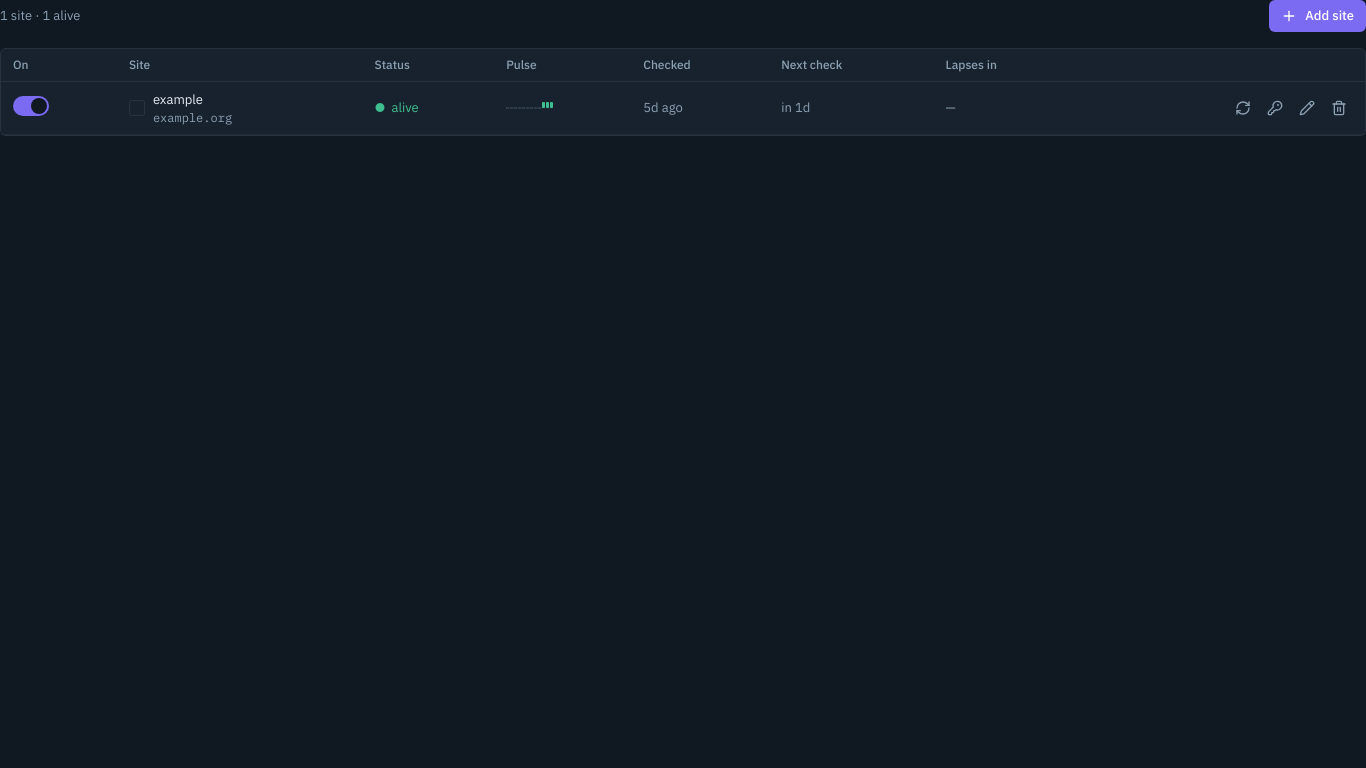
it: adding a site › does not open a login when an edit is saved
Check: the text "example" is shown, box [153,91,203,108]
Click the button named "Edit example" at (1307, 108), box [1293,94,1321,122]
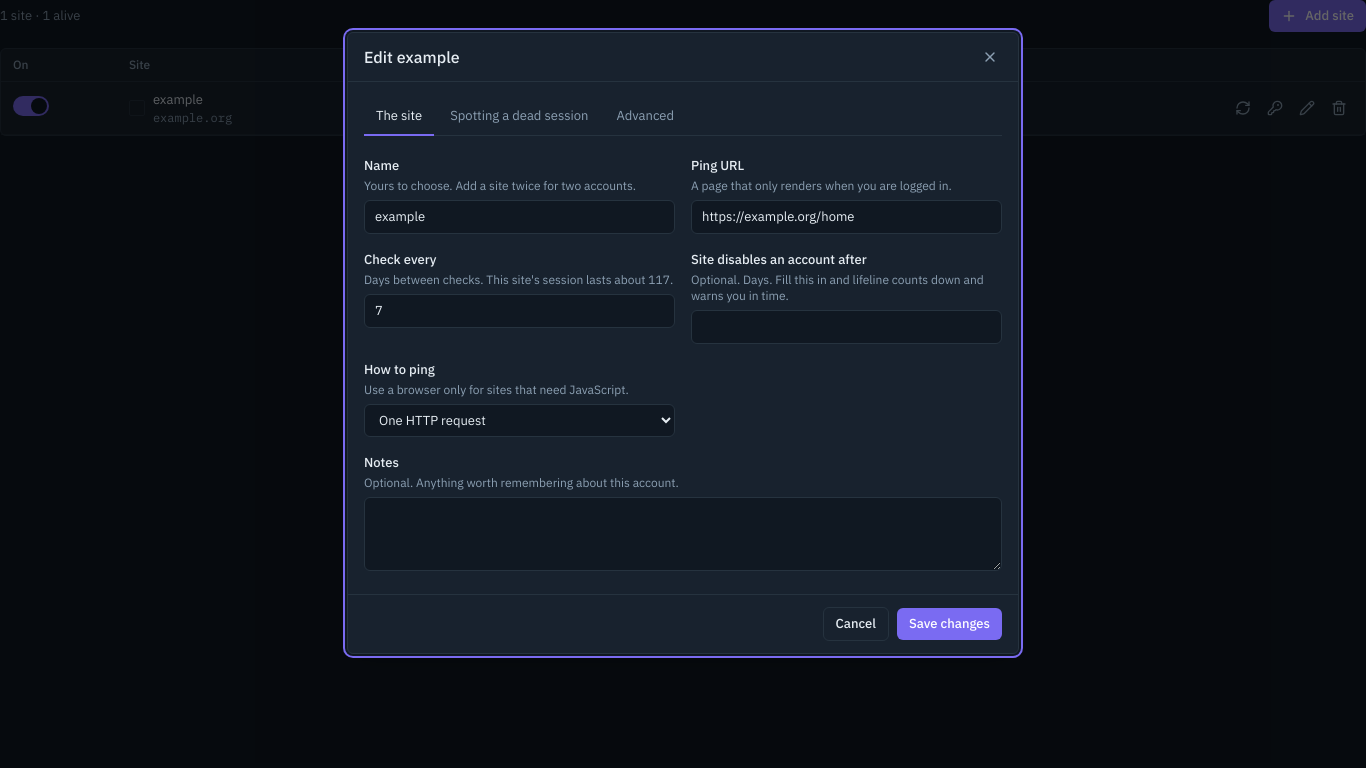
Click the button "Save changes" at (950, 624), box [897,608,1002,640]
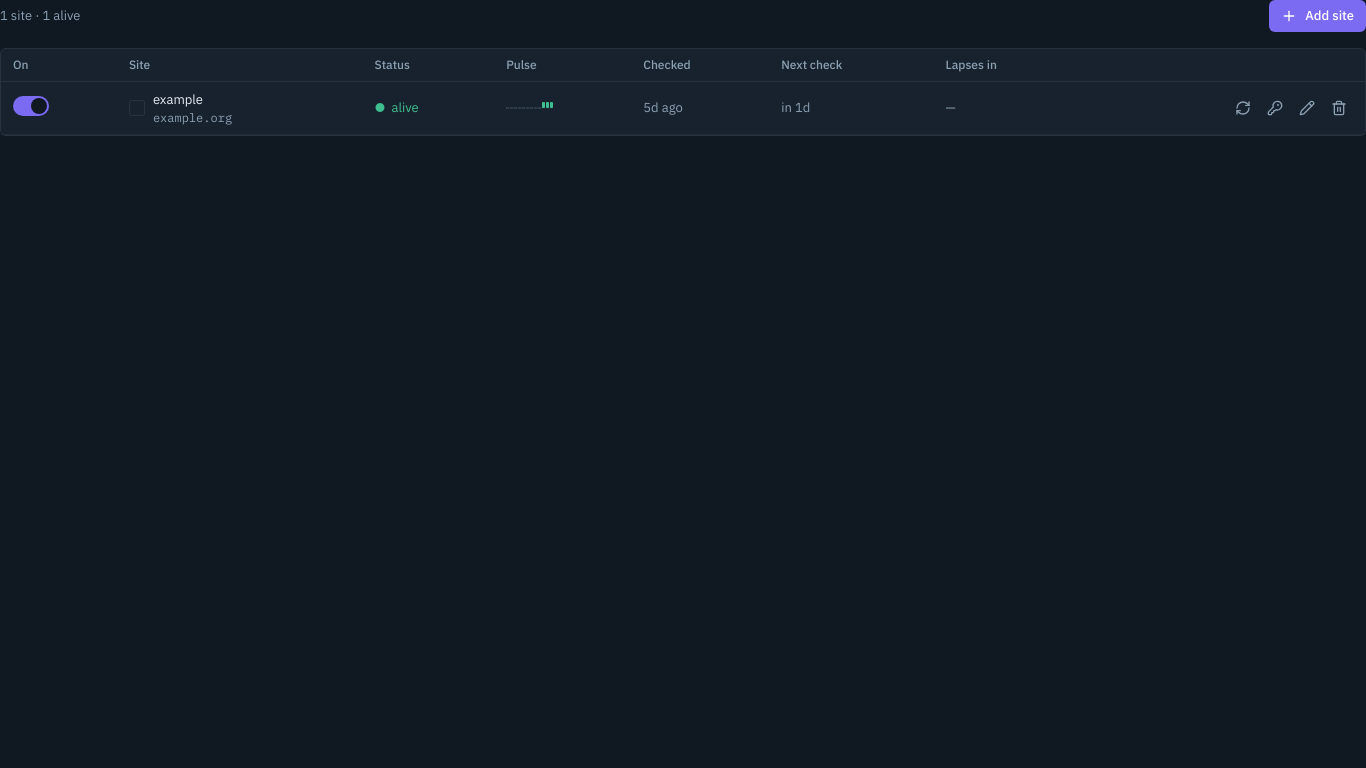
Check: the dialog is gone
